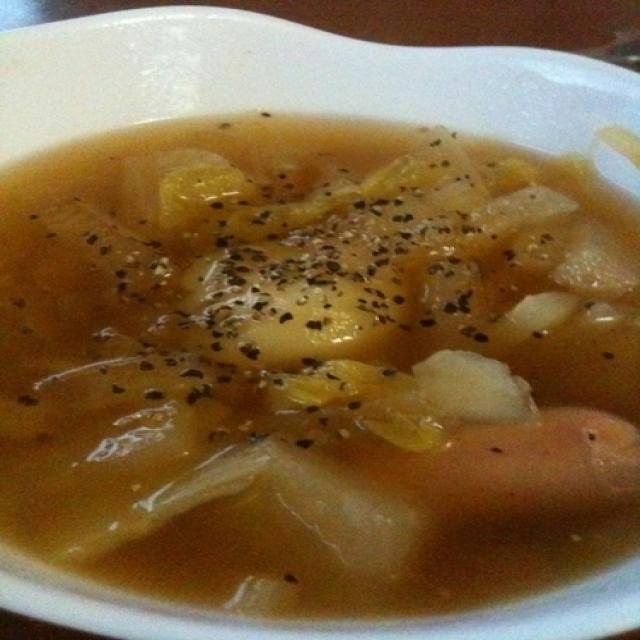汤锅炖物: (7, 11, 630, 628)
